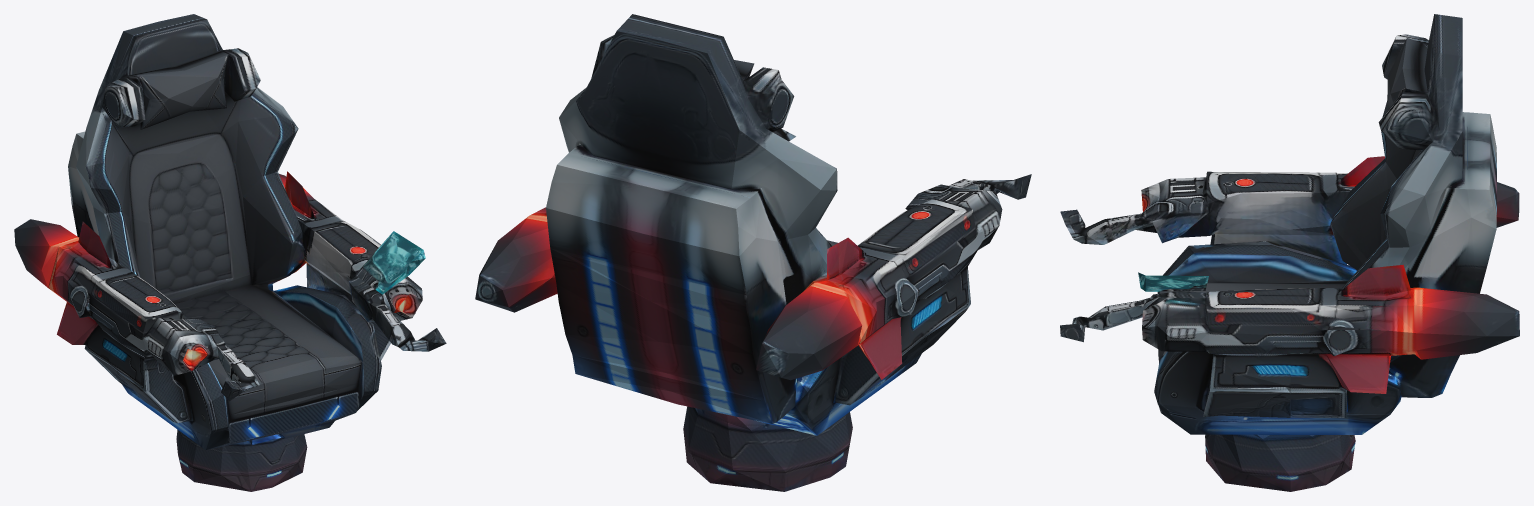
3 views of the same model, side by side, from view 1: azimuth 30°, elevation 25°; view 2: azimuth 150°, elevation 25°; view 3: azimuth 270°, elevation 25° (orthographic). The views are drawn at different scales.
Bounding box in the file's own units: 0.6477 × 0.8739 × 0.8473.
1 material, 1 textured.
